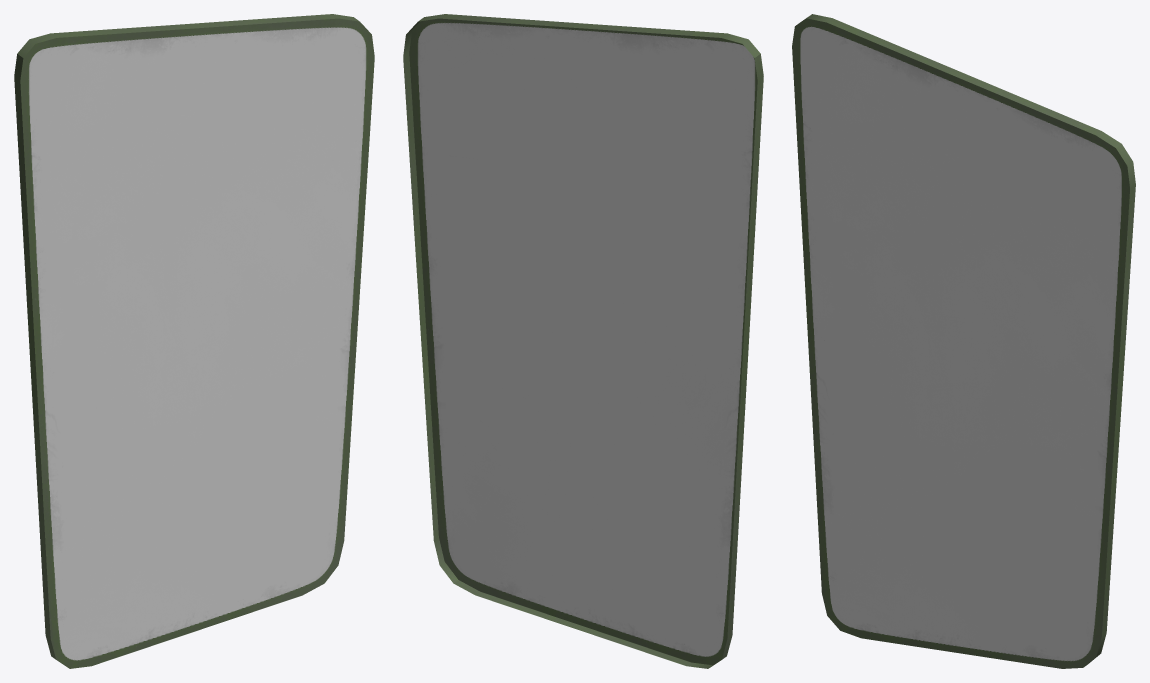
Rendered from Mirror.fbx.
3 renders of one model, left to right at view 1: azimuth 30°, elevation 25°; view 2: azimuth 150°, elevation 25°; view 3: azimuth 330°, elevation 25°, orthographic. The views are drawn at different scales.
Parts seen in each view (by area): view 1: Mirror; view 2: Mirror; view 3: Mirror.
Part boxes in pixels (x1,y1,x2,y2): Mirror: (14,14,374,668); Mirror: (403,14,763,668); Mirror: (792,14,1135,668).
Size of the model in its own units: 53.15 by 91.31 by 1.62.
